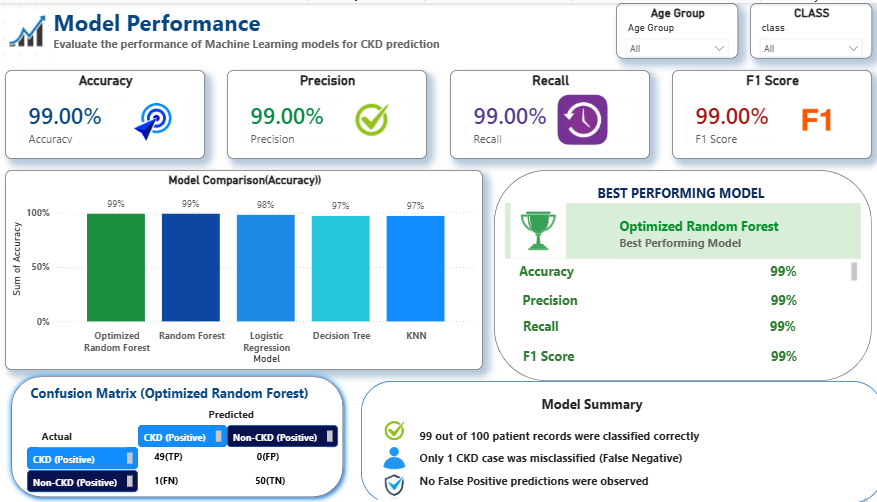

Layout of this report page (visuals, bound fields, positions):
{"tool":"powerbi","page":{"name":"Model Performance","canvas":[1280,720],"ordinal":3},"visuals":[{"type":"image","box":[0,0,96,80],"z":0},{"type":"textbox","box":[80,0,576,80],"z":1000},{"type":"slicer","title":"Age Group","fields":{"Values":["dashboard_dataset_real.Age Group"]},"box":[896,0,176,80],"z":2000},{"type":"slicer","title":"CLASS","fields":{"Values":["dashboard_dataset_real.class"]},"box":[1088,0,176,80],"z":3000},{"type":"cardVisual","title":"Accuracy","fields":{"Data":["dashboard_dataset_real.Overall Accuracy"]},"box":[16,96,288,128],"z":4000},{"type":"image","box":[176,128,112,80],"z":5000},{"type":"cardVisual","title":"Precision","fields":{"Data":["dashboard_dataset_real.Precision"]},"box":[336,96,288,128],"z":6000},{"type":"image","box":[480,128,128,80],"z":7000},{"type":"cardVisual","title":"Recall","fields":{"Data":["dashboard_dataset_real.Recall"]},"box":[656,96,288,128],"z":8000},{"type":"image","box":[768,128,160,80],"z":9000},{"type":"cardVisual","title":"F1 Score","fields":{"Data":["dashboard_dataset_real.F1 Score"]},"box":[976,96,288,128],"z":10000},{"type":"image","box":[1120,128,128,80],"z":11000},{"type":"clusteredColumnChart","title":"Model Comparison(Accuracy))","fields":{"Category":["Table.Model"],"Y":["Sum(Table.Accuracy)"]},"box":[16,240,688,288],"z":12000},{"type":"shape","box":[720,240,544,304],"z":13000},{"type":"textbox","box":[864,256,352,48],"z":14000},{"type":"shape","box":[736,288,512,80],"z":15000},{"type":"image","box":[736,288,96,80],"z":16000},{"type":"textbox","box":[896,304,320,64],"z":17000},{"type":"textbox","box":[752,368,496,80],"z":18000},{"type":"textbox","box":[752,448,464,80],"z":19000},{"type":"shape","box":[16,528,496,192],"z":20000},{"type":"textbox","box":[48,544,432,48],"z":21000},{"type":"textbox","box":[304,576,192,32],"z":22000},{"type":"textbox","box":[208,608,128,32],"z":23000},{"type":"textbox","box":[336,608,160,32],"z":24000},{"type":"textbox","box":[48,640,160,32],"z":25000},{"type":"textbox","box":[48,672,160,32],"z":26000},{"type":"textbox","box":[64,608,128,32],"z":27000},{"type":"textbox","box":[208,640,272,64],"z":27001},{"type":"shape","box":[528,544,752,176],"z":27002},{"type":"textbox","box":[784,560,192,48],"z":27003},{"type":"image","box":[544,592,64,48],"z":27004},{"type":"textbox","box":[608,608,432,32],"z":27005},{"type":"image","box":[544,640,64,32],"z":27006},{"type":"textbox","box":[608,640,448,32],"z":27007},{"type":"image","box":[544,672,64,48],"z":27008},{"type":"textbox","box":[608,672,448,48],"z":27009}]}

Visuals, with their boxes in screenshot pixels (x1, y1, x2, y2), scaled from the page's 1280x720 canvas onto the 877x502 screenshot:
image: 0, 0, 66, 56
textbox: 55, 0, 449, 56
"Age Group" slicer: 614, 0, 734, 56
"CLASS" slicer: 745, 0, 866, 56
"Accuracy" cardVisual: 11, 67, 208, 156
image: 121, 89, 197, 145
"Precision" cardVisual: 230, 67, 428, 156
image: 329, 89, 417, 145
"Recall" cardVisual: 449, 67, 647, 156
image: 526, 89, 636, 145
"F1 Score" cardVisual: 669, 67, 866, 156
image: 767, 89, 855, 145
"Model Comparison(Accuracy))" clusteredColumnChart: 11, 167, 482, 368
shape: 493, 167, 866, 379
textbox: 592, 178, 833, 212
shape: 504, 201, 855, 257
image: 504, 201, 570, 257
textbox: 614, 212, 833, 257
textbox: 515, 257, 855, 312
textbox: 515, 312, 833, 368
shape: 11, 368, 351, 501
textbox: 33, 379, 329, 413
textbox: 208, 402, 340, 424
textbox: 143, 424, 230, 446
textbox: 230, 424, 340, 446
textbox: 33, 446, 143, 469
textbox: 33, 469, 143, 491
textbox: 44, 424, 132, 446
textbox: 143, 446, 329, 491
shape: 362, 379, 876, 501
textbox: 537, 390, 669, 424
image: 373, 413, 417, 446
textbox: 417, 424, 713, 446
image: 373, 446, 417, 469
textbox: 417, 446, 724, 469
image: 373, 469, 417, 501
textbox: 417, 469, 724, 501
